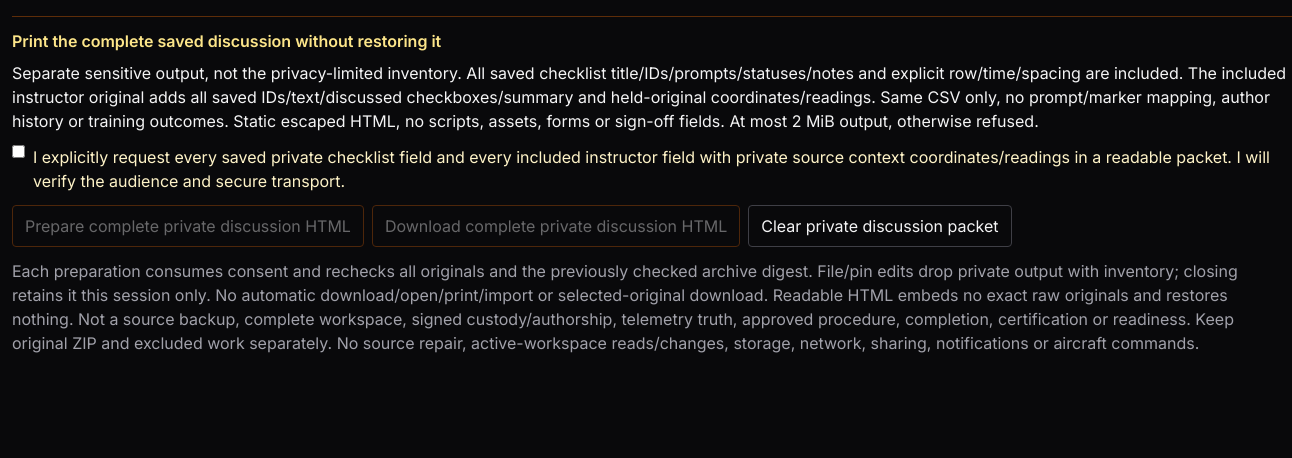
it: requires fresh complete private consent, no automatic effects and consumes consent while checking all originals and previous archive digest
The image size is (1292, 458).
expect the button "Prepare complete private discussion HTML" is disabled: met, box [12, 205, 364, 247]
expect the button "Download complete private discussion HTML" is disabled: met, box [372, 205, 740, 247]
Click the checkbox named "Acknowledge complete sensitive discussion packet" at (18, 152), box [12, 145, 25, 158]
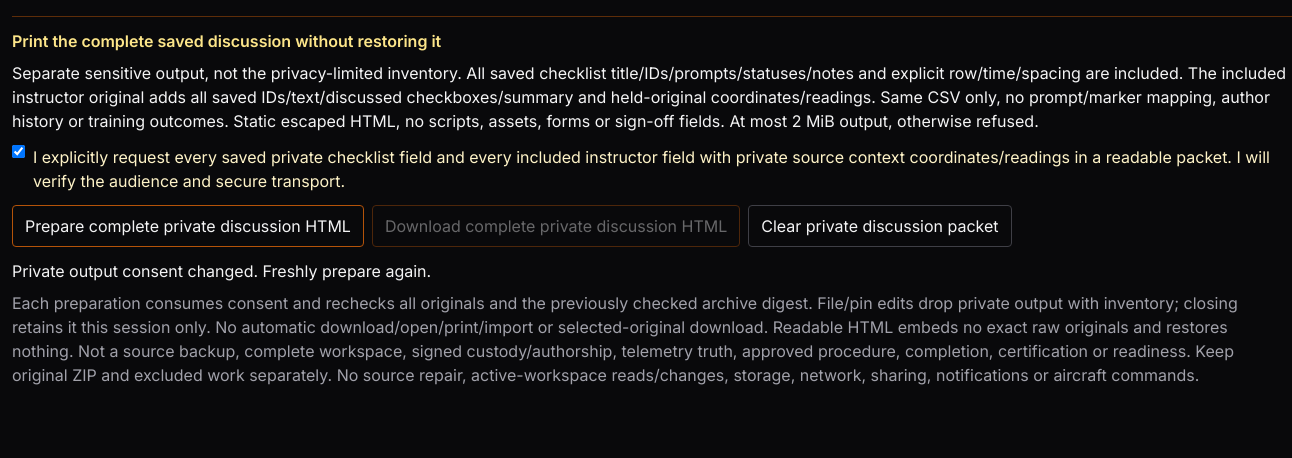
Click the button "Prepare complete private discussion HTML" at (188, 226), box [12, 205, 364, 247]
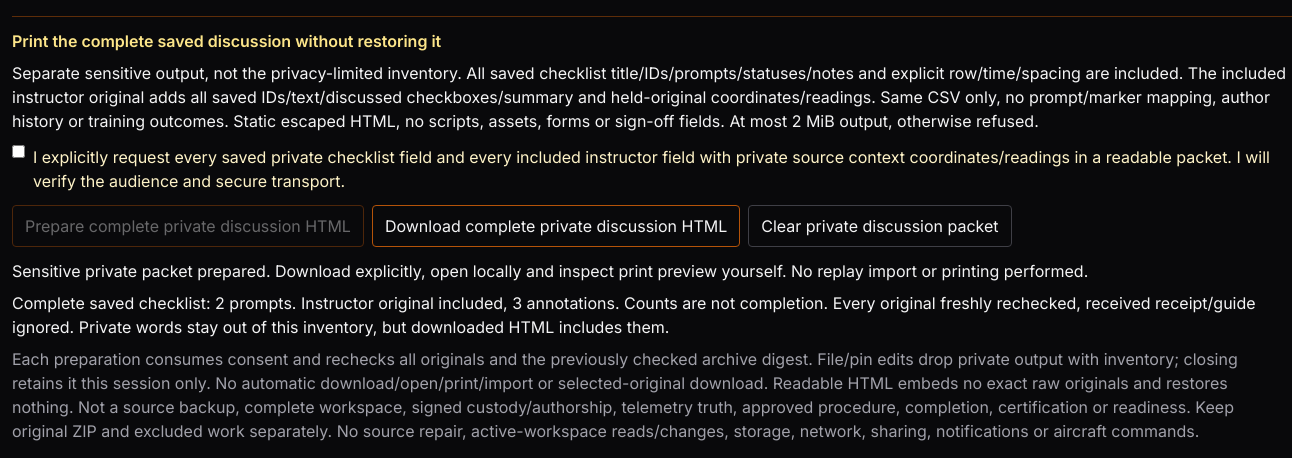
expect the checkbox named "Acknowledge complete sensitive discussion packet" is not checked: met, box [12, 145, 25, 158]
expect the text named "Prepared complete private packet" is shown: met, box [12, 291, 1291, 339]
